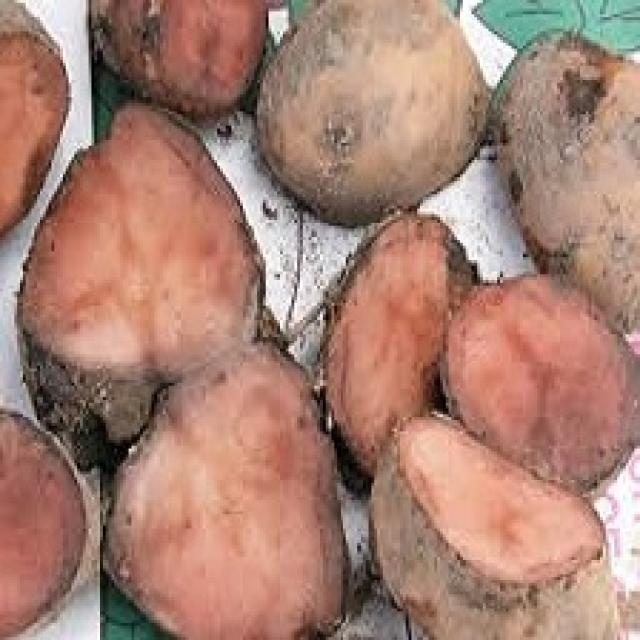pink_rot: (311, 197, 640, 640), (12, 87, 280, 452), (99, 314, 356, 640)
